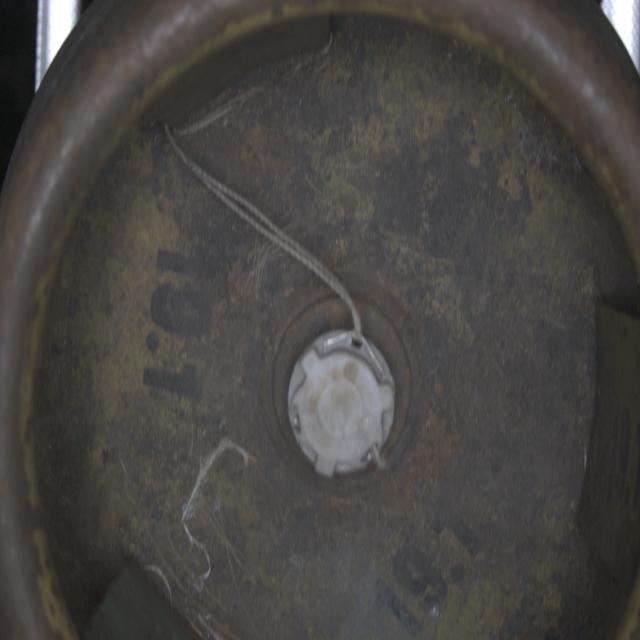Cap: (288, 328, 400, 479)
